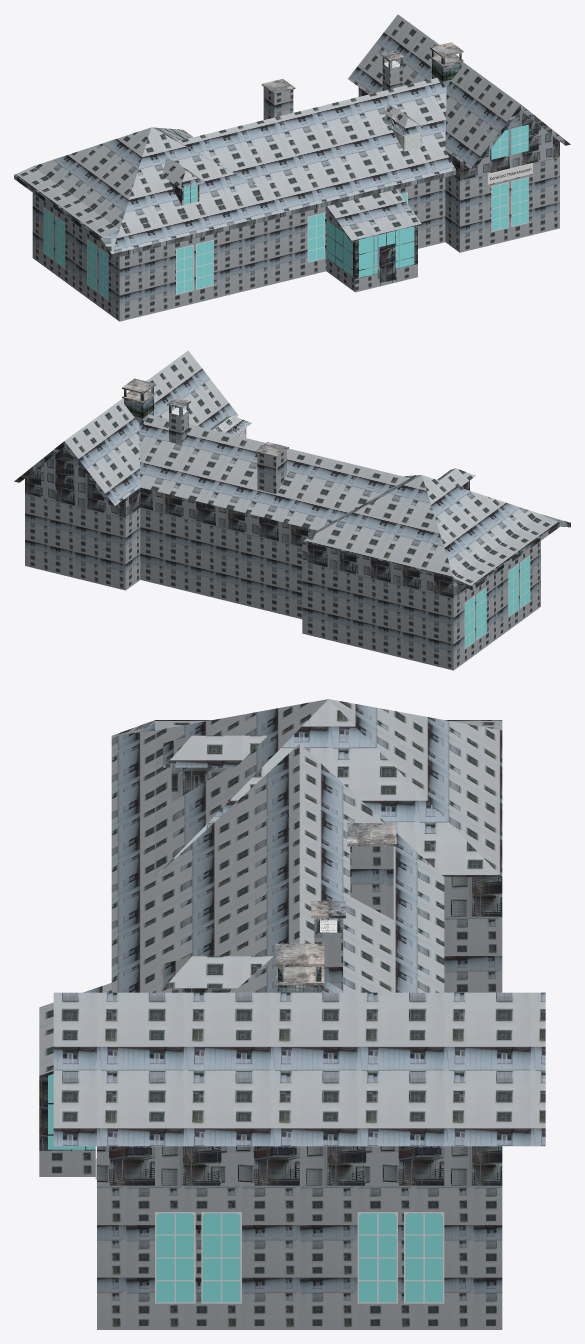
The model's file is KoPf_Empfang_Peter_lod1.dae.
The picture shows the model from 3 angles, top to bottom: view 1: azimuth 30°, elevation 25°; view 2: azimuth 150°, elevation 25°; view 3: azimuth 270°, elevation 25°; orthographic projection. The views are drawn at different scales.
Parts seen in each view (by area): view 1: SketchUp (×12); view 2: SketchUp (×8); view 3: SketchUp (×17).
Part boxes in pixels (x1,y1,x2,y2): SketchUp (×12): (14, 14, 570, 321); SketchUp (×8): (14, 350, 570, 670); SketchUp (×17): (39, 699, 545, 1329).
Bounding box in the file's own units: 1398 × 689 × 472.
